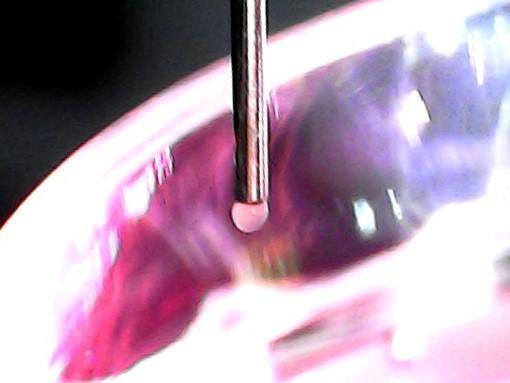water drop: (228, 197, 272, 232)
